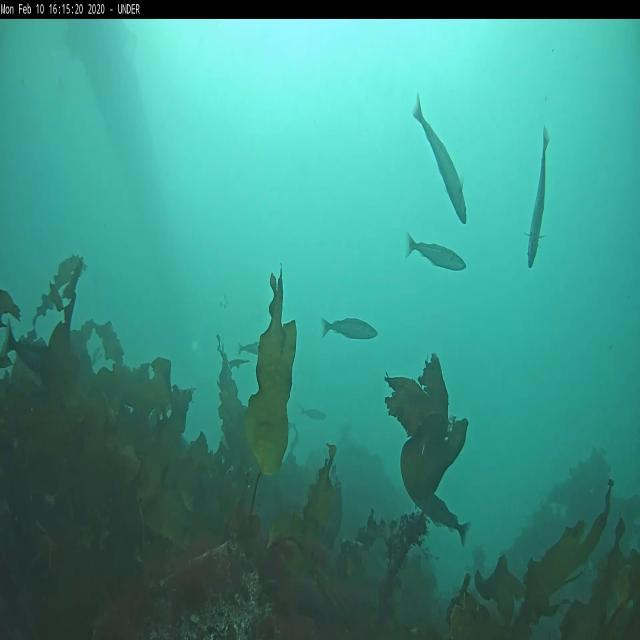fish: (413, 96, 467, 224), (527, 126, 548, 271), (422, 491, 470, 548), (408, 237, 465, 270), (321, 316, 377, 342), (238, 338, 262, 358), (300, 404, 326, 421)
